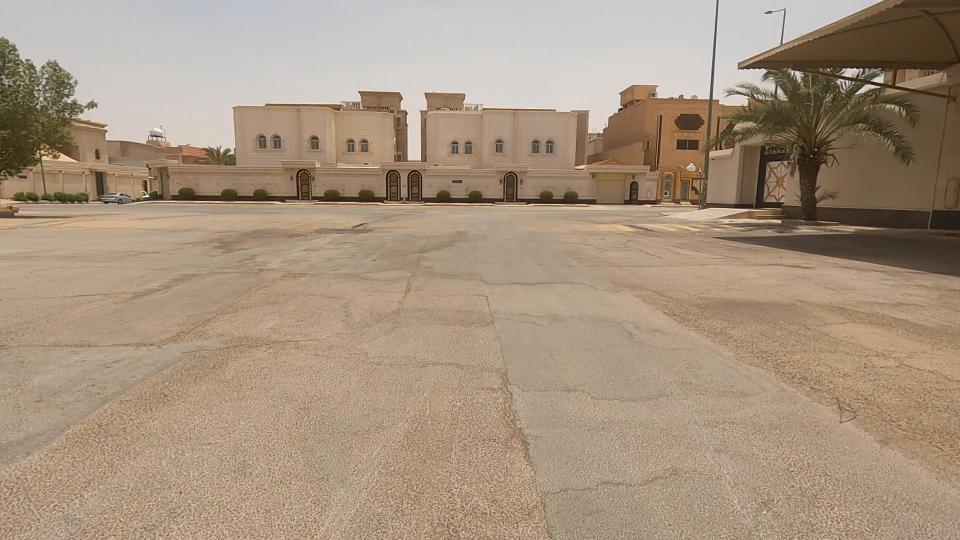POTHOLES: (433, 330, 591, 489), (98, 245, 221, 332), (292, 195, 400, 271), (233, 202, 335, 277)
